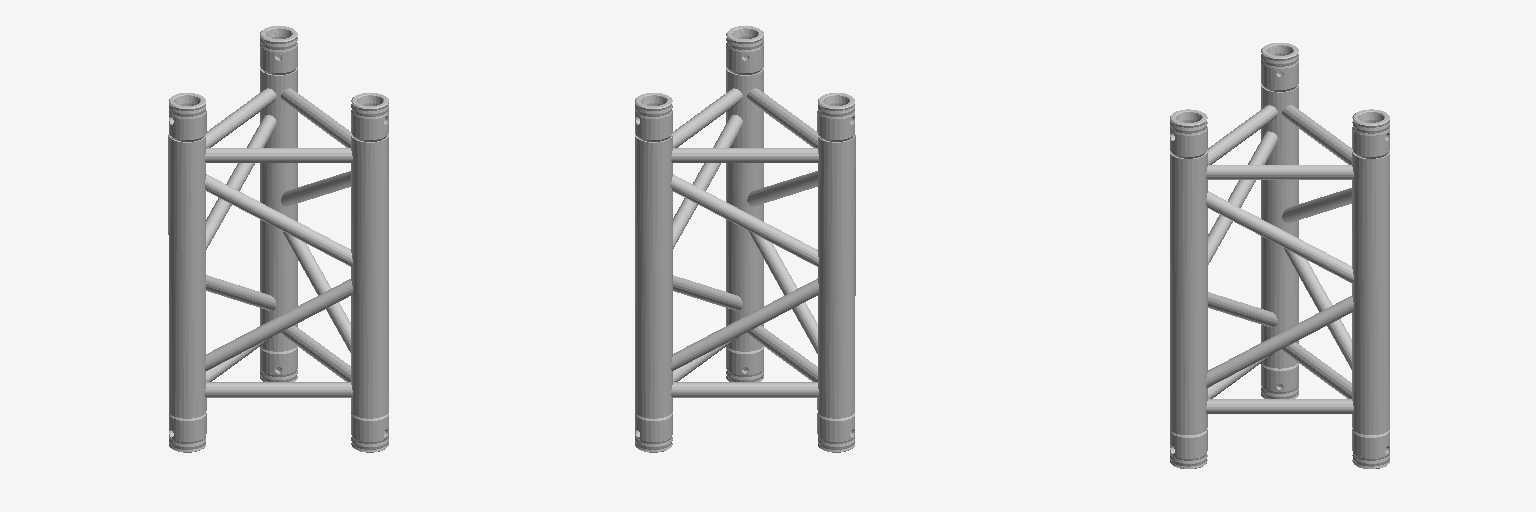
Rendered from scaffold.obj.
The picture shows the model from 3 angles: view 1: azimuth 30°, elevation 25°; view 2: azimuth 150°, elevation 25°; view 3: azimuth 270°, elevation 25°; orthographic projection.
Visible parts, largest first — view 1: node_id3_mesh_id4; view 2: node_id3_mesh_id4; view 3: node_id3_mesh_id4.
Boxes of the visible parts, box(x1,y1,x2,y2) form: node_id3_mesh_id4: box(168, 26, 388, 452); node_id3_mesh_id4: box(635, 26, 855, 452); node_id3_mesh_id4: box(1170, 43, 1389, 468).
Bounding box in the file's own units: 0.264 × 0.512 × 0.2969.